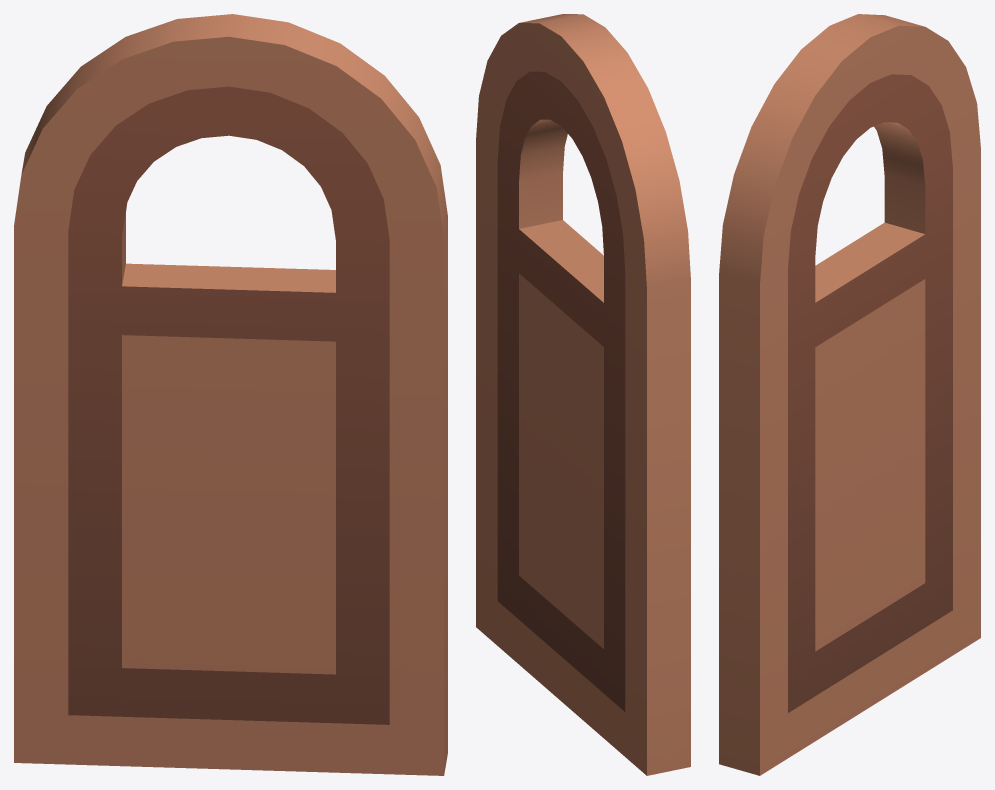
The model's file is door.001_lev1.glb.
The picture shows the model from 3 angles, left to right: view 1: azimuth 30°, elevation 25°; view 2: azimuth 150°, elevation 25°; view 3: azimuth 270°, elevation 25°; orthographic projection. The views are drawn at different scales.
Visible parts, largest first — view 1: door.001_lev1; view 2: door.001_lev1; view 3: door.001_lev1.
Part boxes in pixels (x1,y1,x2,y2): door.001_lev1: (14,14,447,775); door.001_lev1: (476,14,690,775); door.001_lev1: (719,14,980,775).
Size of the model in its own units: 1.52 by 3.17 by 1.12.
1 material, 1 textured.
